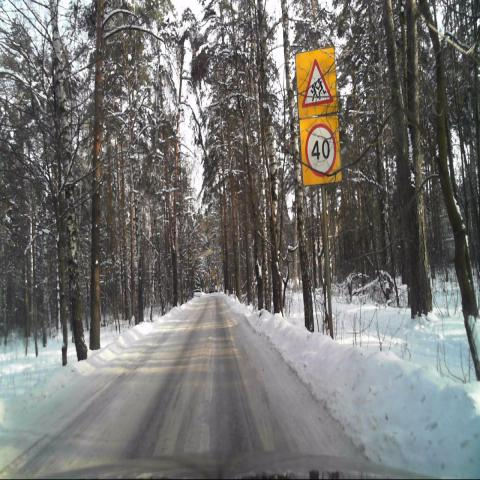1_23: (295, 48, 337, 118)
3_24: (300, 117, 342, 186)
